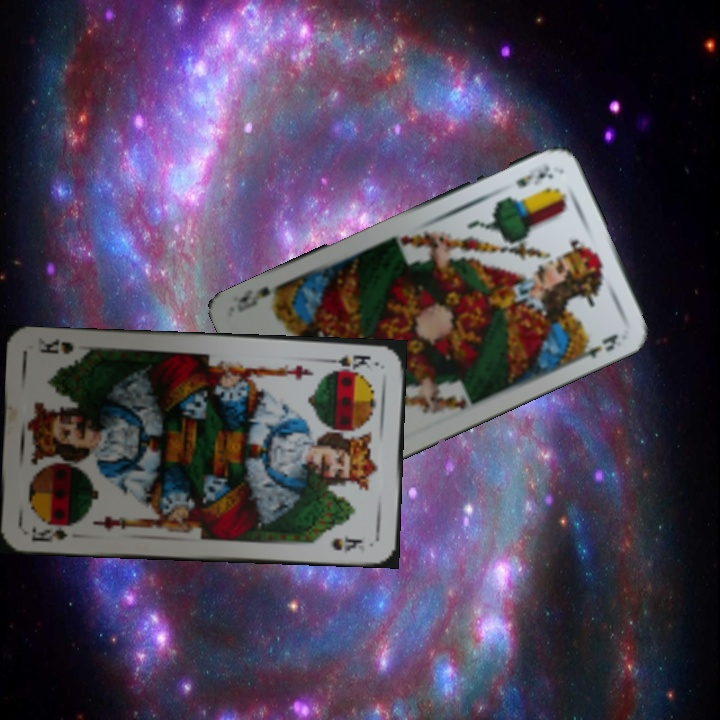EK: (511, 161, 555, 190)
SK: (27, 520, 76, 545), (321, 351, 373, 372)
